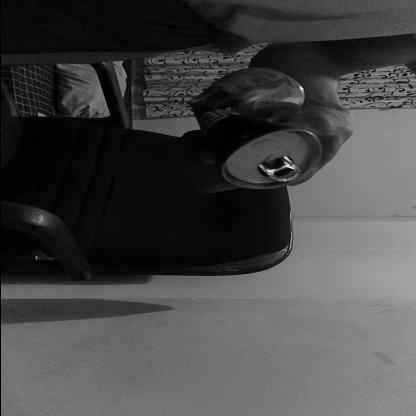alumunium_can: (202, 70, 326, 190)
